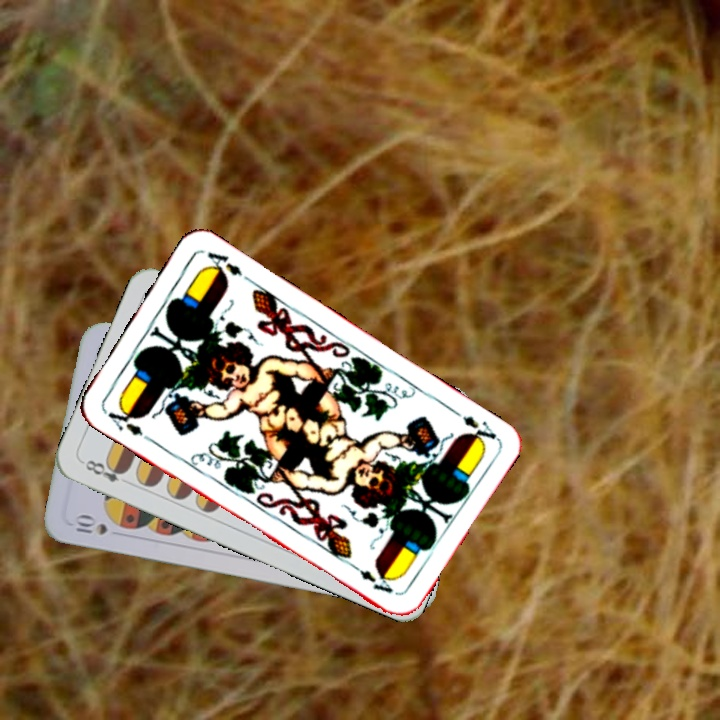E8: (78, 455, 133, 488)
EA: (446, 404, 499, 448), (99, 402, 153, 444)
S10: (71, 512, 111, 538)
